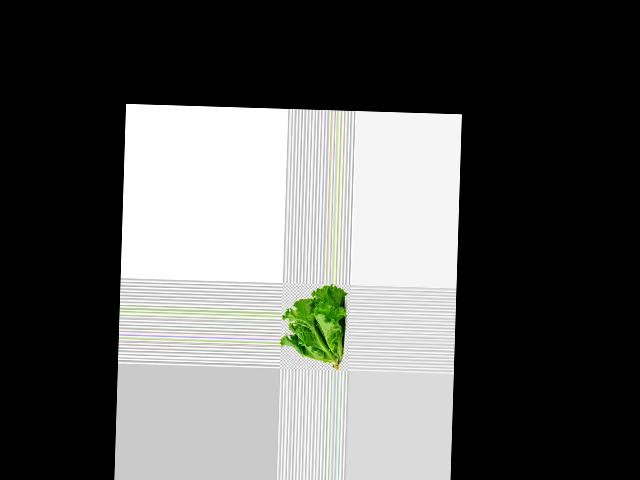lettuce: (280, 283, 345, 370)
